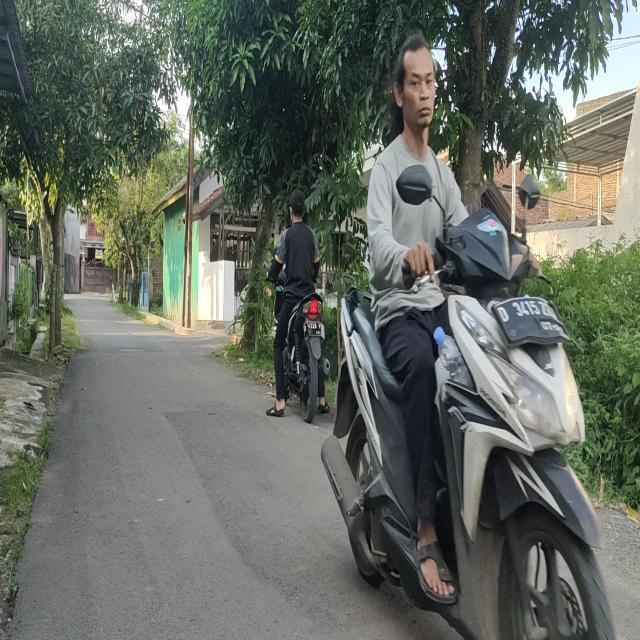no-helmet: (398, 34, 441, 124), (288, 190, 308, 223)
